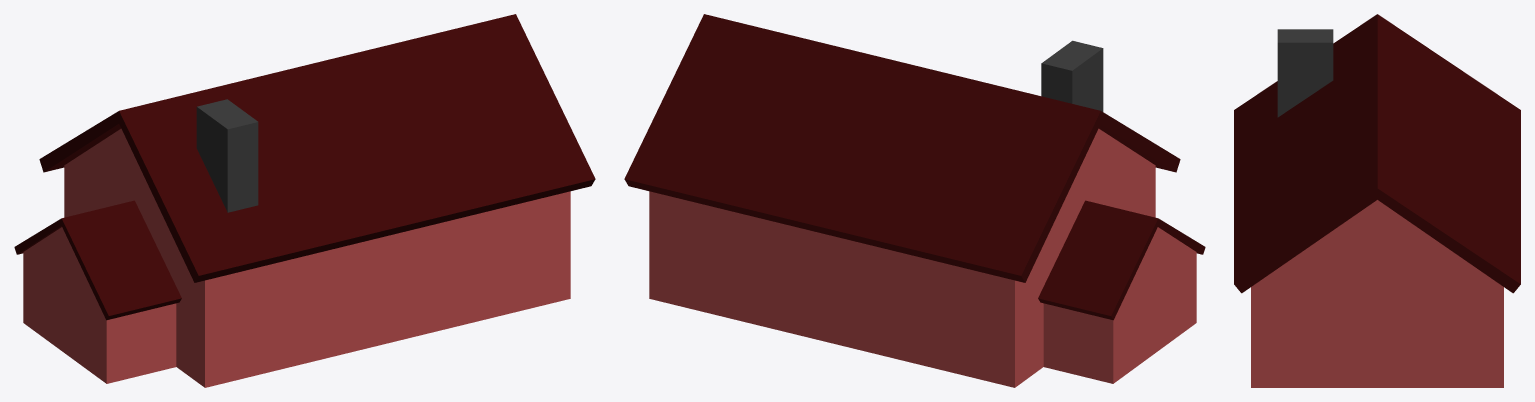
The model's file is village_house_B.FBX.
3 renders of one model, left to right at view 1: azimuth 30°, elevation 25°; view 2: azimuth 150°, elevation 25°; view 3: azimuth 270°, elevation 25°, orthographic. The views are drawn at different scales.
Visible parts, largest first — view 1: Murs_006; view 2: Murs_006; view 3: Murs_006.
Part boxes in pixels (x1,y1,x2,y2): Murs_006: (14,14,595,387); Murs_006: (624,14,1205,387); Murs_006: (1234,14,1520,387).
Bounding box in the file's own units: 1492 × 749 × 906.
